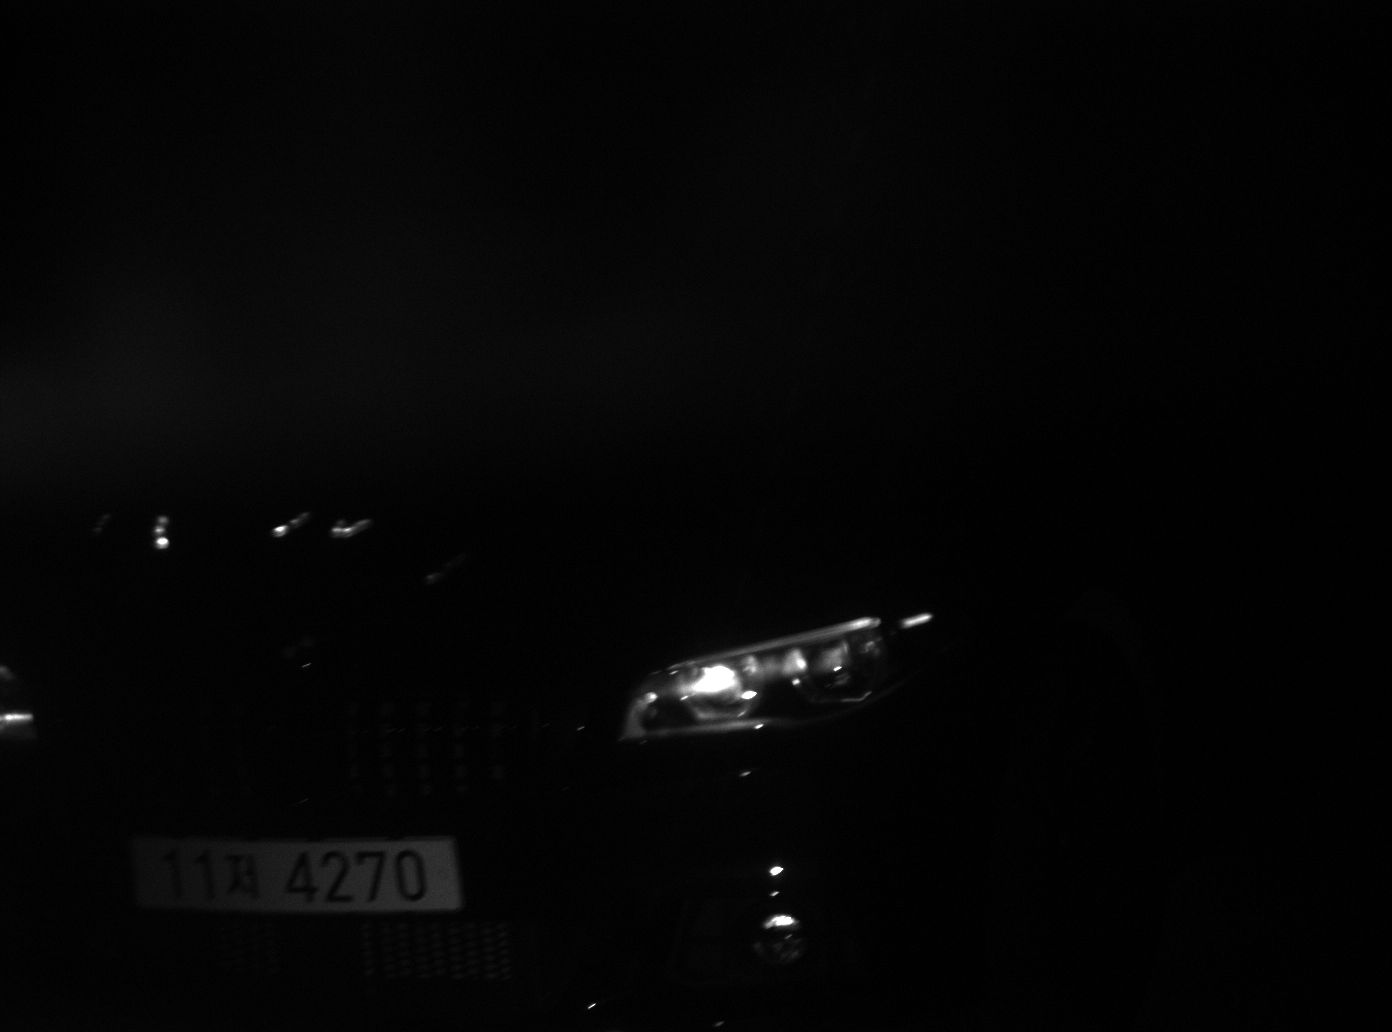car: (1, 148, 1292, 1029)
plate: (119, 830, 468, 916)
